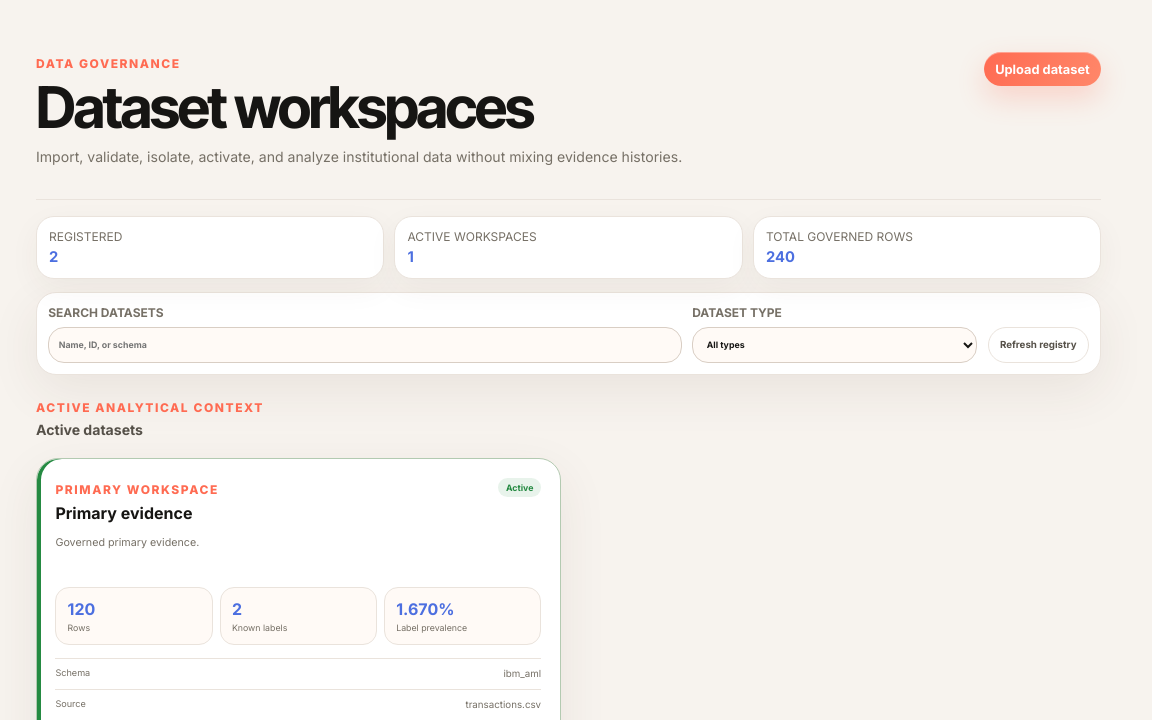
Dataset workspace › opens the governed upload inspector from the workspace header
Expected: the heading "Primary evidence" is shown, [55,503,192,523]
Click the button "Upload dataset": (1043, 69) [984,52,1101,86]
(page scrolled)
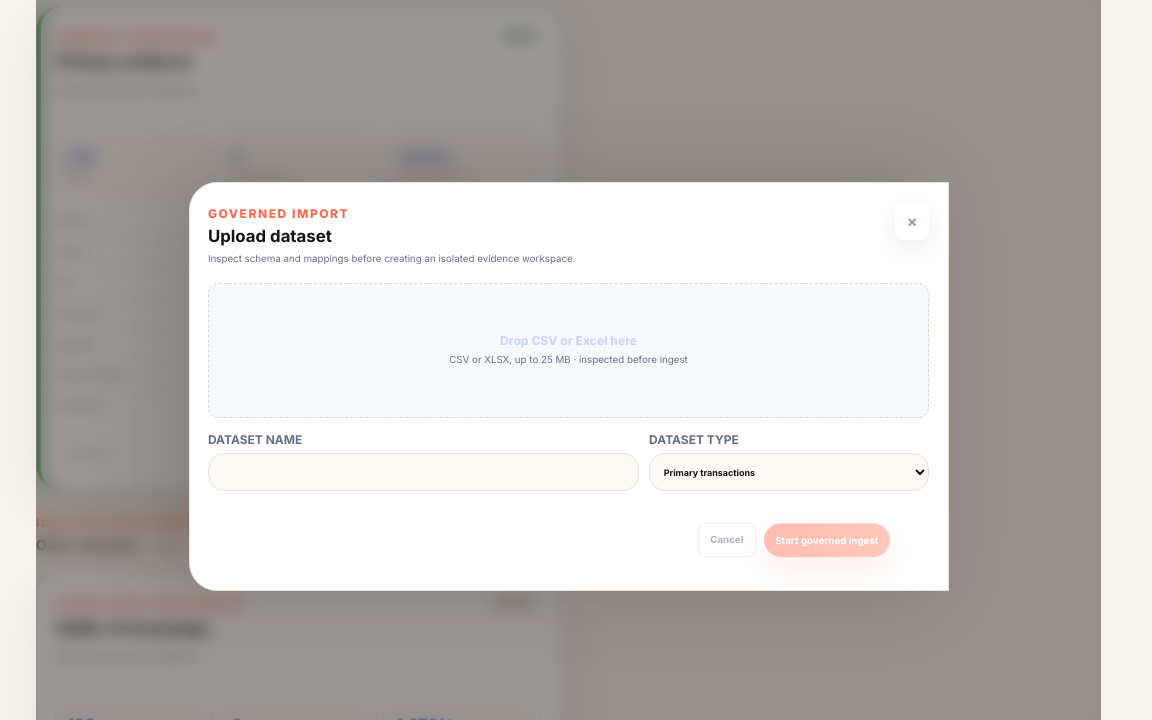
Result: the dialog "Upload dataset" is shown at [188,182,948,591]
Result: the text "CSV or XLSX, up to 25 MB · inspected before ingest" is shown at [449,353,688,368]
